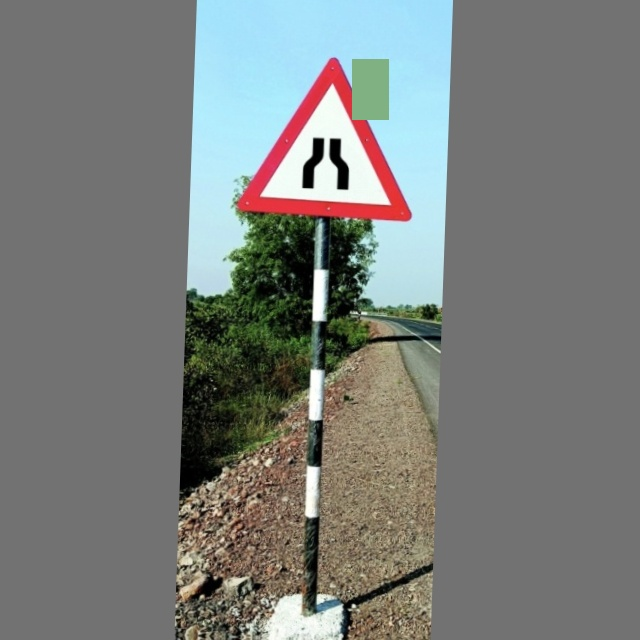Narrow_Road_Ahead: (241, 58, 418, 223)
